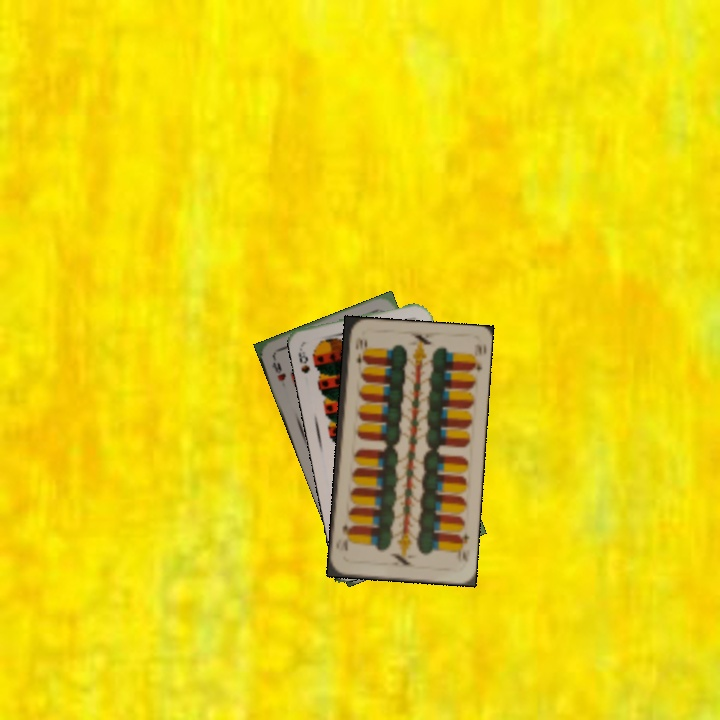E10: (454, 529, 472, 565), (351, 333, 366, 366)
H9: (267, 352, 289, 384)
S8: (294, 339, 312, 376)
